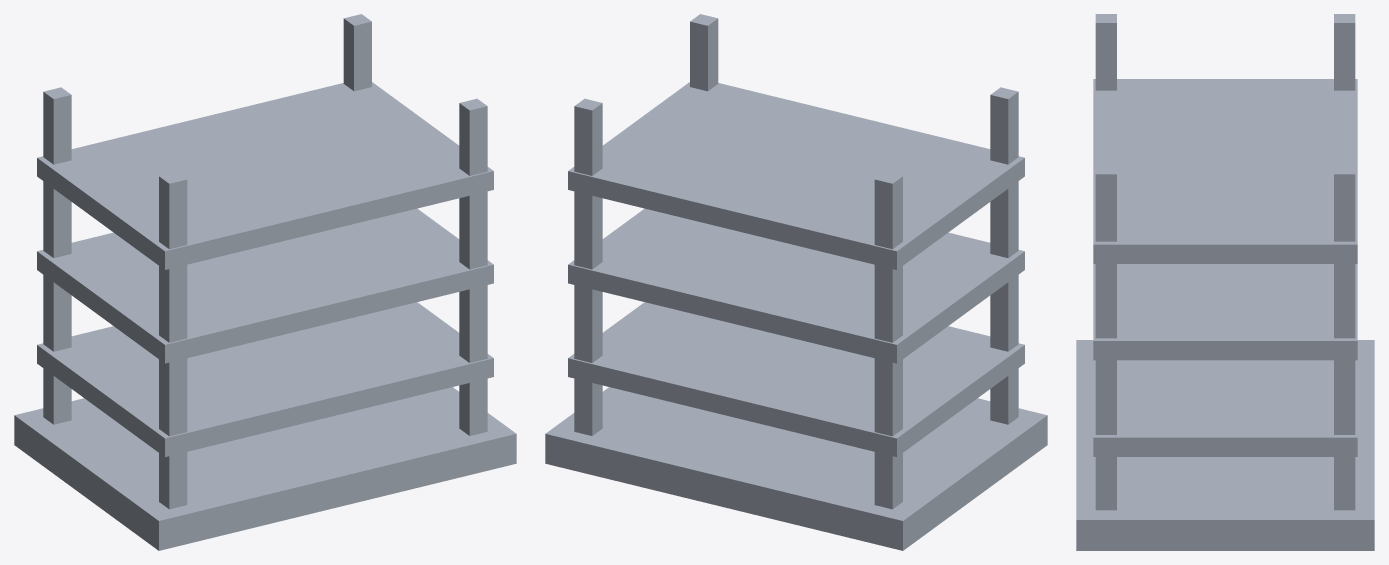
Rendered from warehouse.glb.
3 views of the same model, side by side, from view 1: azimuth 30°, elevation 25°; view 2: azimuth 150°, elevation 25°; view 3: azimuth 270°, elevation 25° (orthographic). The views are drawn at different scales.
Size of the model in its own units: 1 by 0.95 by 0.7.
